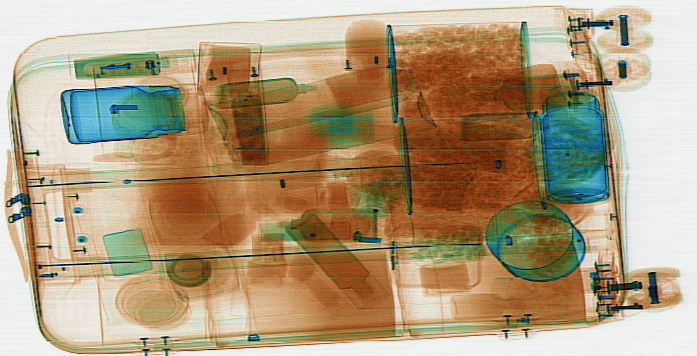pressure: (204, 88, 436, 175), (205, 60, 422, 143)
